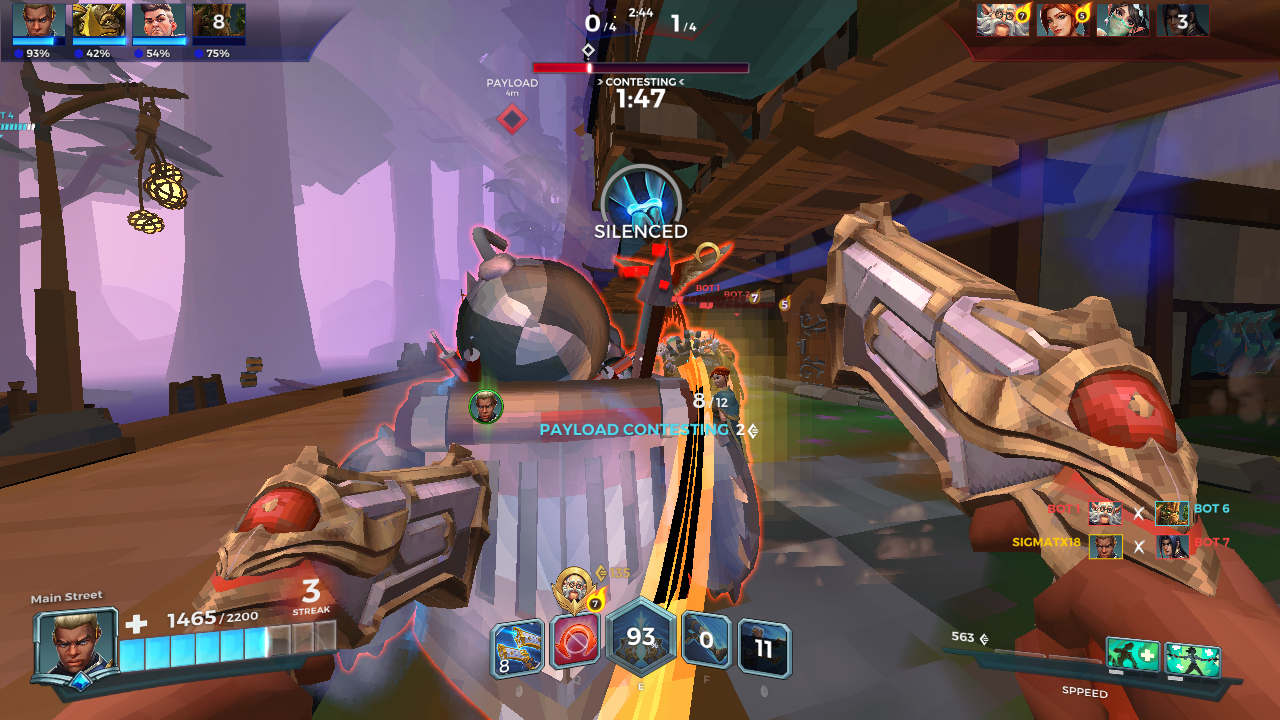model: (682, 316, 730, 435)
